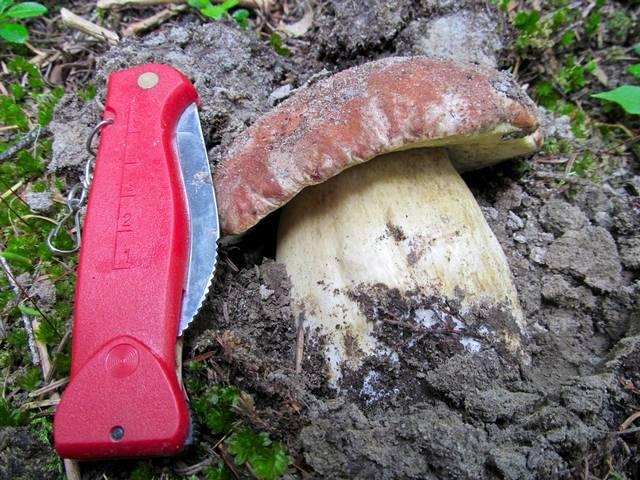edible_mushroom: (211, 53, 544, 390)
